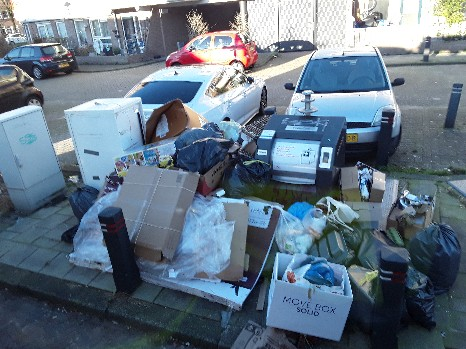Container: (265, 112, 353, 190)
Papier: (120, 161, 178, 255), (329, 165, 397, 211), (240, 200, 266, 277), (389, 184, 424, 227), (152, 105, 193, 130)
Plastic: (191, 198, 231, 282)
Rest: (270, 247, 350, 320), (243, 196, 305, 268), (291, 204, 360, 266), (382, 249, 440, 311), (329, 220, 394, 269), (340, 251, 386, 303), (184, 133, 241, 170), (414, 222, 453, 274), (192, 158, 261, 185), (217, 117, 256, 163), (70, 183, 105, 224)
Voertuig: (297, 43, 407, 147), (147, 52, 272, 135), (4, 38, 84, 88), (188, 25, 263, 75), (0, 75, 54, 111)
